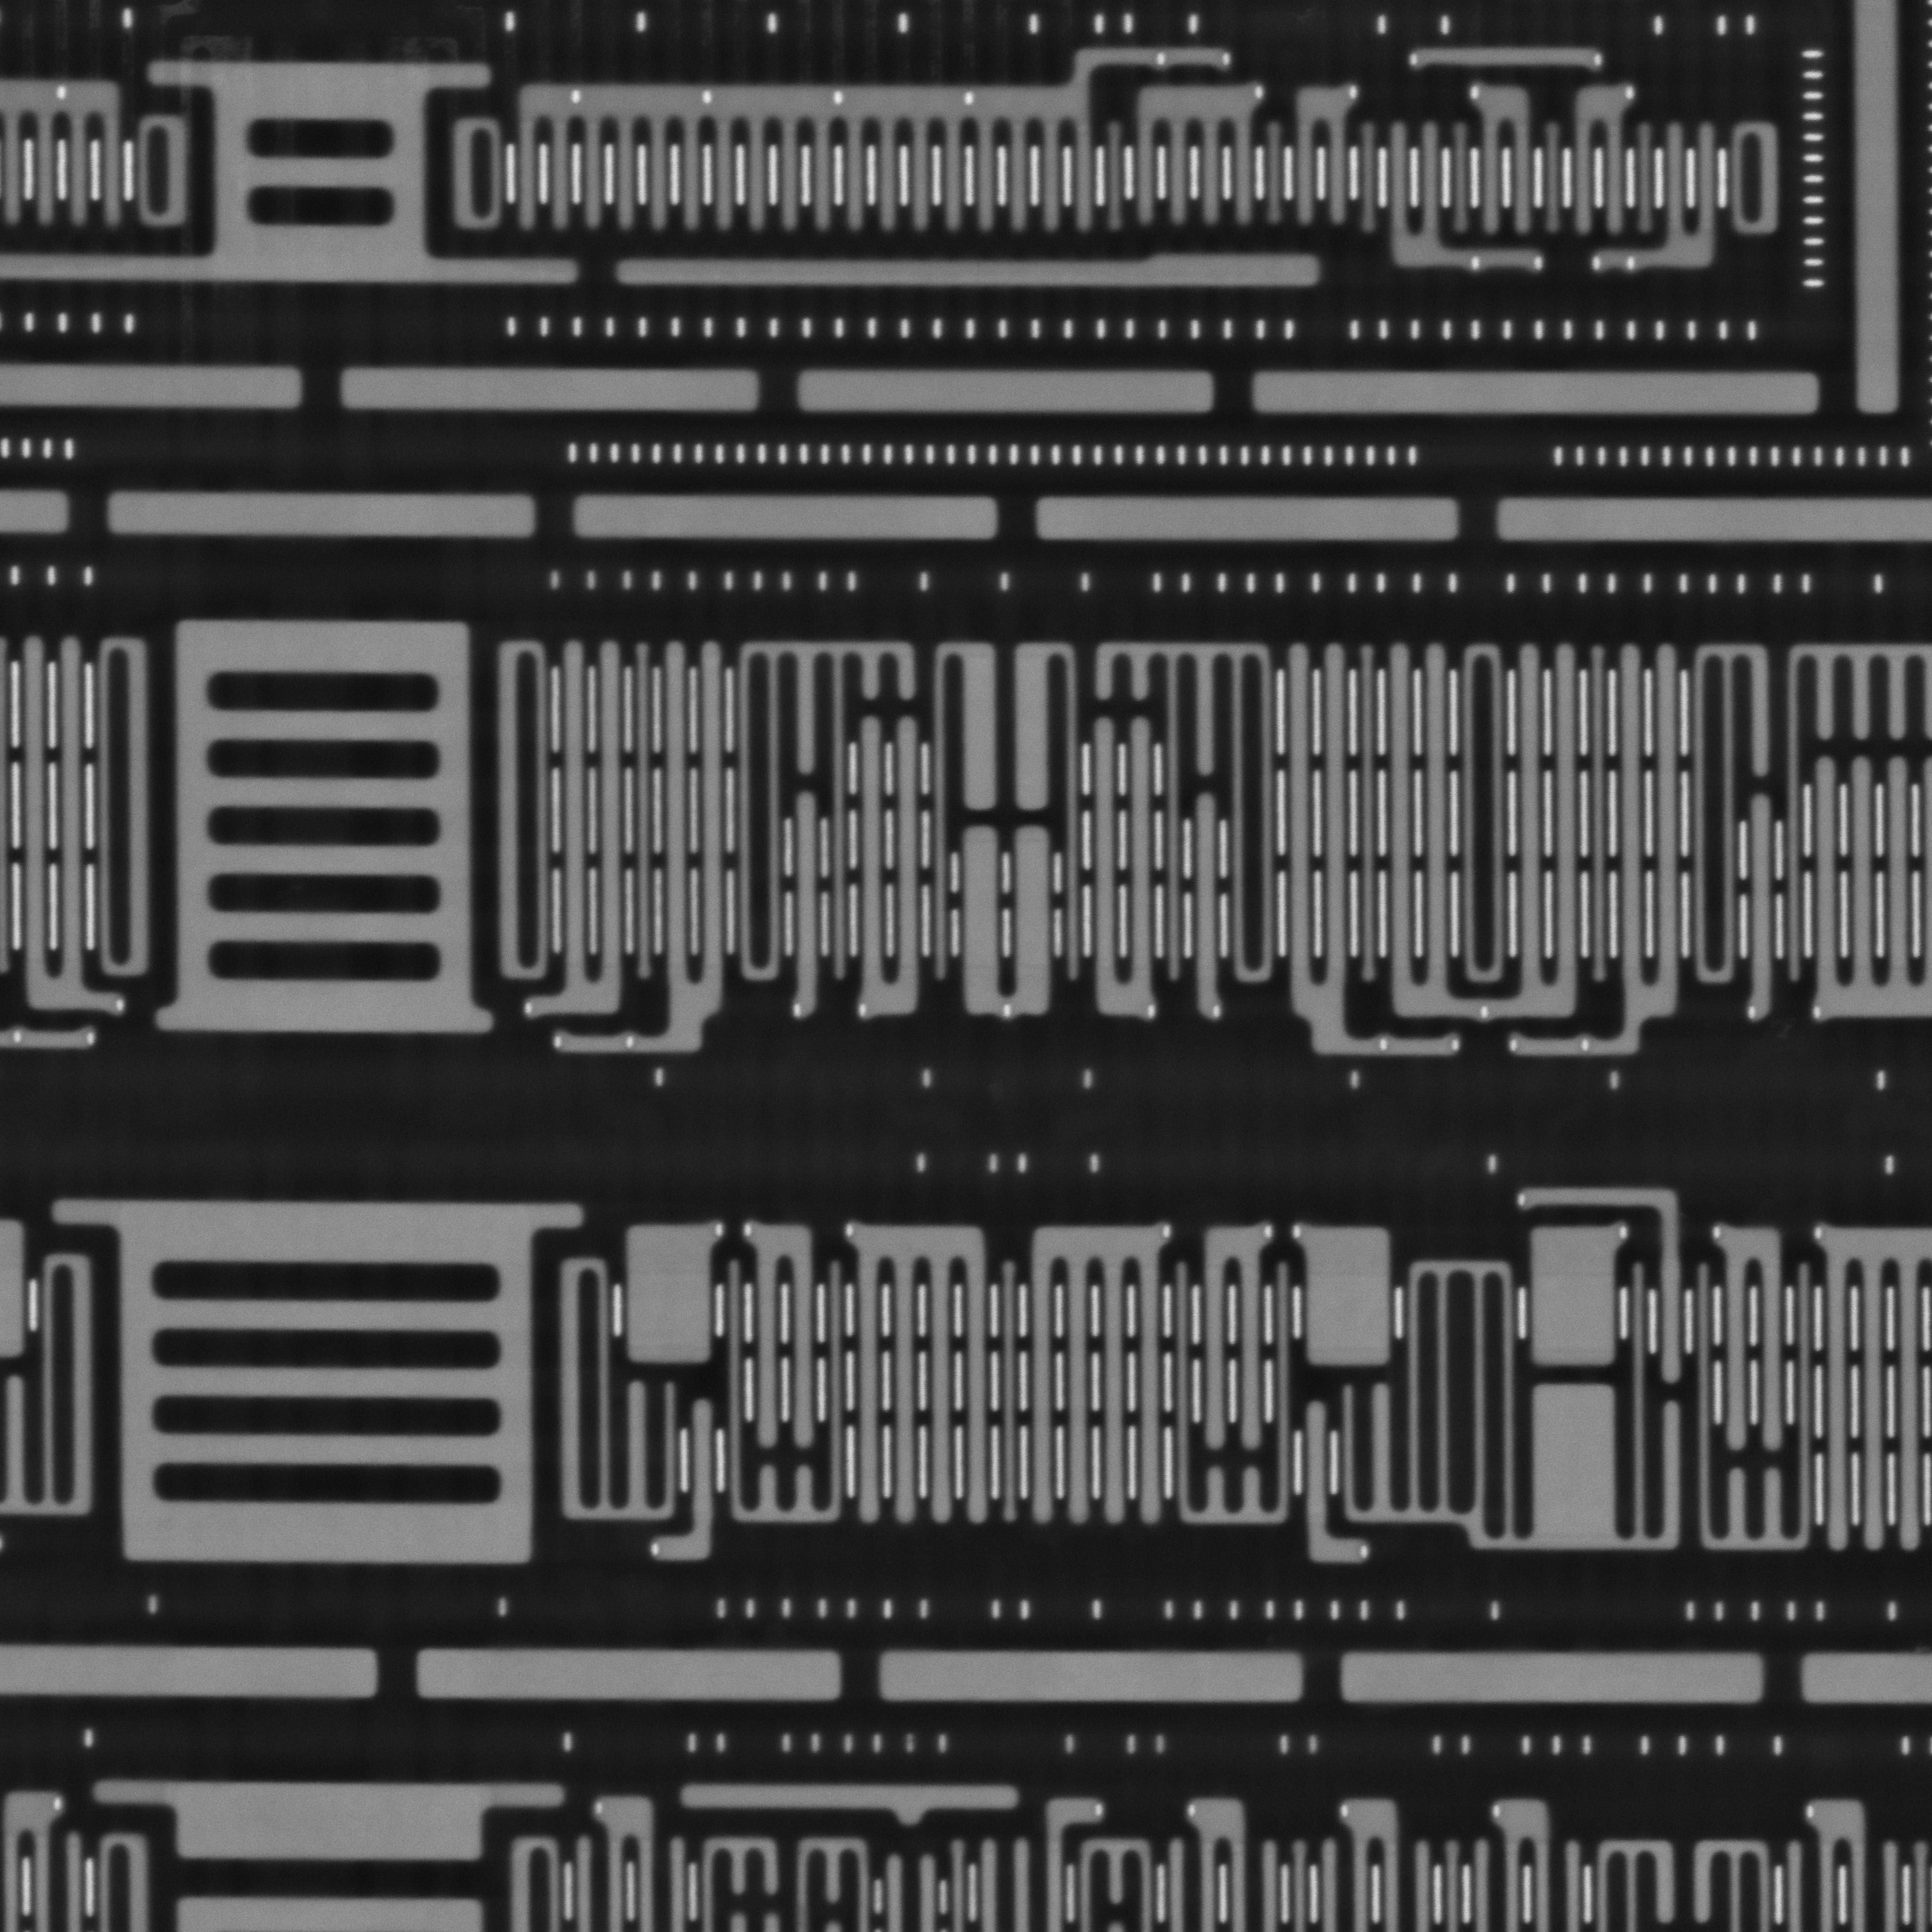circularDummy: (1251, 364, 1824, 414), (1341, 1652, 1767, 1711), (99, 485, 541, 540), (414, 1649, 846, 1704), (878, 1649, 1306, 1702), (798, 372, 1223, 423), (333, 363, 764, 412), (570, 492, 1001, 538), (1033, 494, 1463, 536)
doubleGate: (550, 633, 741, 1067), (1276, 639, 1468, 1060), (1504, 637, 1693, 1065), (12, 633, 129, 1016), (527, 637, 637, 1017), (1375, 111, 1550, 272), (849, 704, 932, 1019), (1083, 717, 1162, 1021), (948, 821, 1063, 1030), (1585, 122, 1727, 276), (1189, 1223, 1279, 1454), (741, 1215, 828, 1453), (1707, 1224, 1798, 1451), (1461, 83, 1545, 234), (1283, 81, 1362, 237), (1564, 83, 1637, 237)
insideDummy: (53, 1192, 577, 1575), (154, 607, 499, 1037), (147, 46, 492, 299)
multiGate: (502, 41, 1231, 249), (1373, 639, 1594, 1024), (840, 1215, 1003, 1525), (1021, 1223, 1175, 1525), (1813, 1224, 1932, 1552), (1801, 747, 1932, 1031), (1120, 74, 1267, 237)
singleGate: (1516, 1180, 1698, 1384), (1514, 1217, 1635, 1375), (612, 1219, 725, 1378), (1292, 1223, 1405, 1362), (1293, 1401, 1380, 1566), (780, 784, 833, 1016), (651, 1396, 722, 1562), (1739, 791, 1785, 1024), (1187, 789, 1231, 1023)
